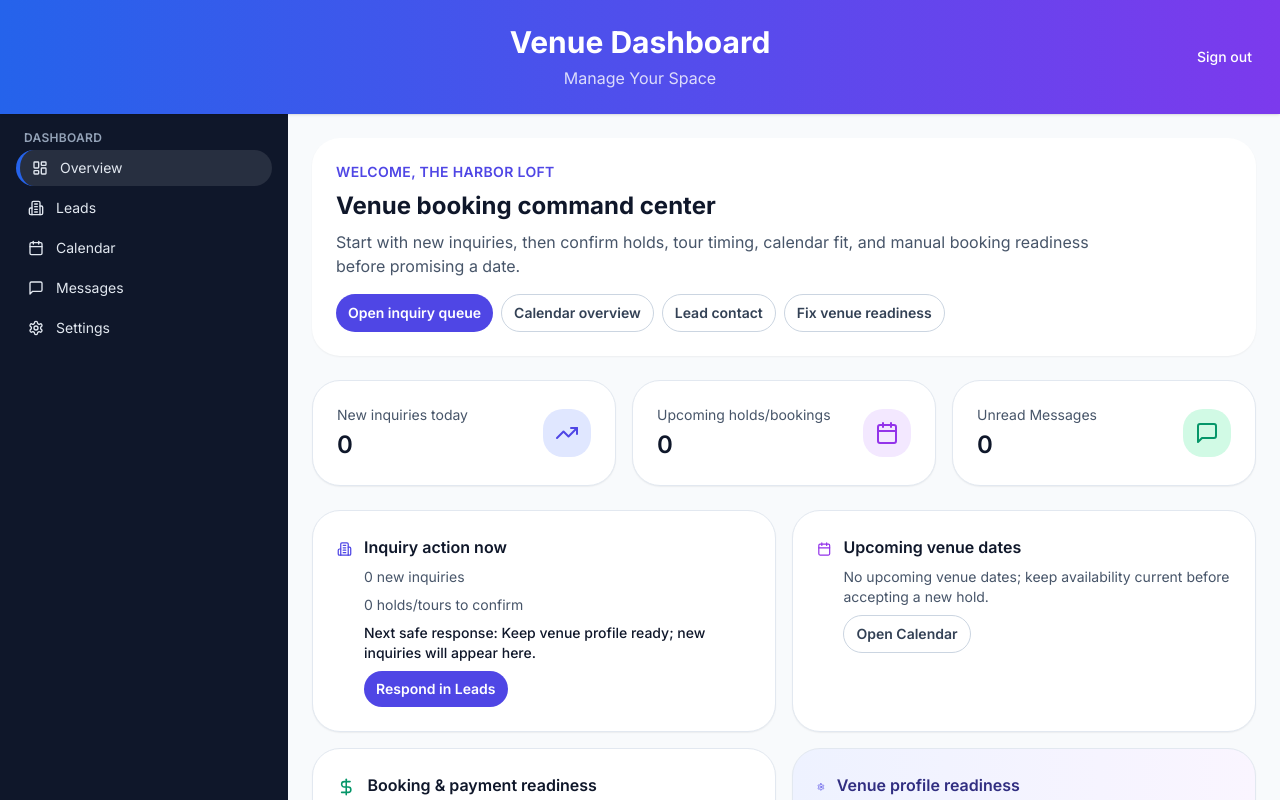
Test: VenueDashboard booking readiness workflow › routes first-screen actions into useful venue surfaces instead of coming-soon placeholders
Click the button "Respond in Leads". click: (436, 688)
box: x1=364 y1=670 x2=508 y2=706
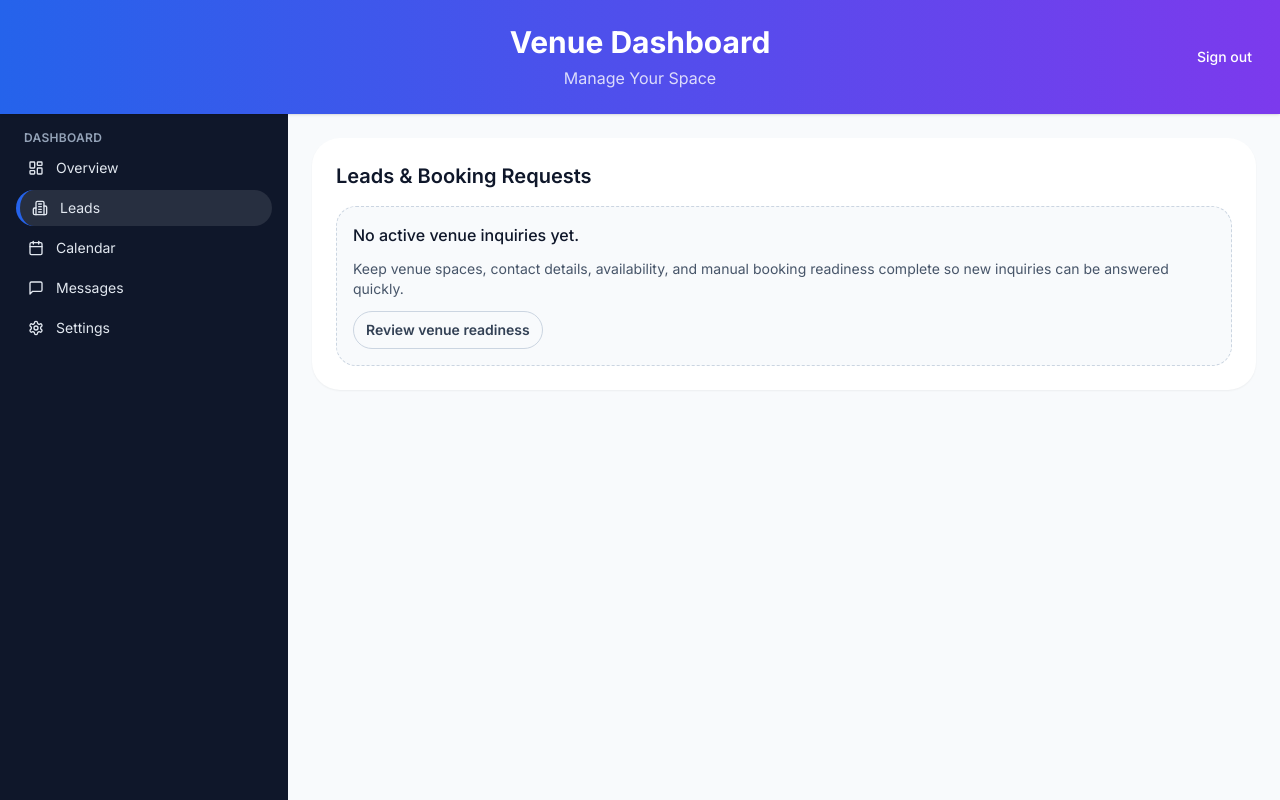
Now the heading "Leads & Booking Requests" is shown, box x1=336 y1=164 x2=592 y2=188
Now the text "No active venue inquiries yet." is shown, box x1=353 y1=224 x2=579 y2=244
Click the button "Calendar". click: (144, 248)
box: x1=16 y1=230 x2=272 y2=266
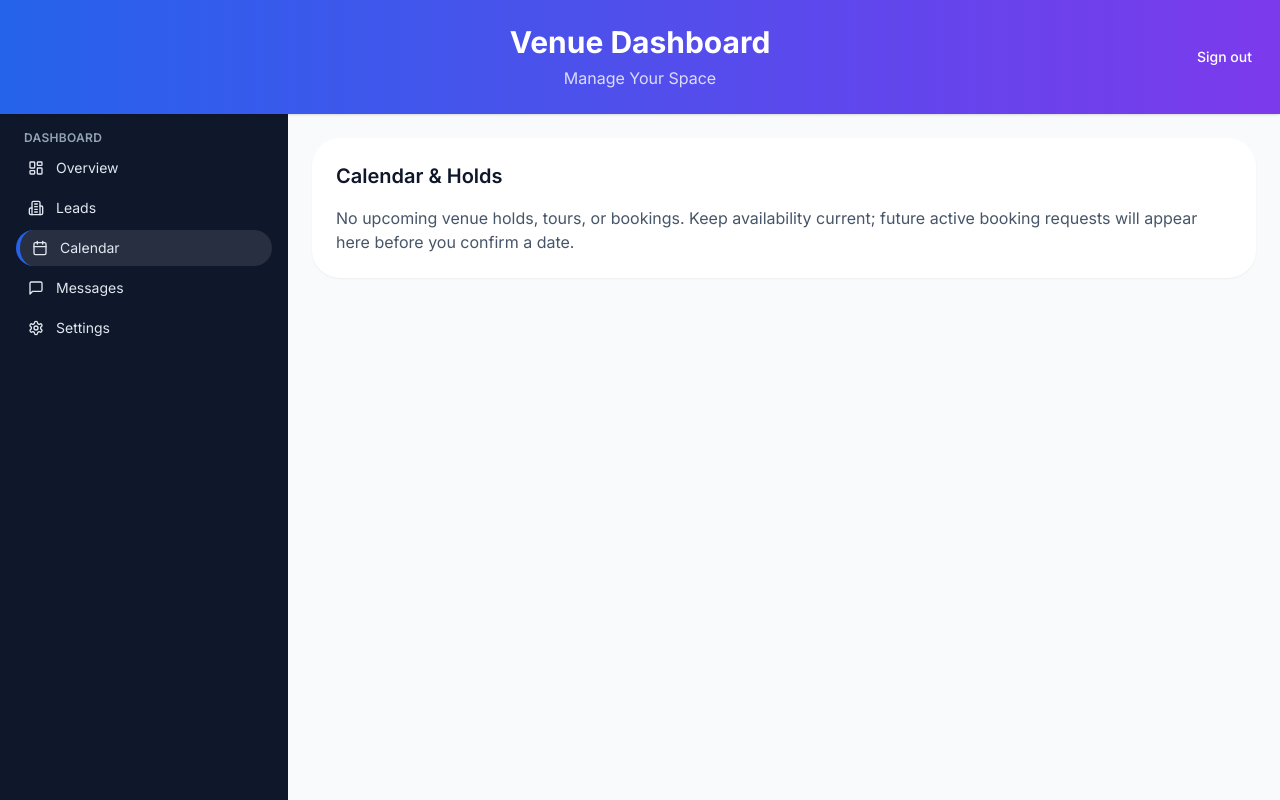
Now the heading "Calendar & Holds" is shown, box x1=336 y1=164 x2=502 y2=188
Now the text "No upcoming venue holds, tours, or bookings" is shown, box x1=336 y1=208 x2=1197 y2=252
Click the button "Messages". click: (144, 288)
box: x1=16 y1=270 x2=272 y2=306
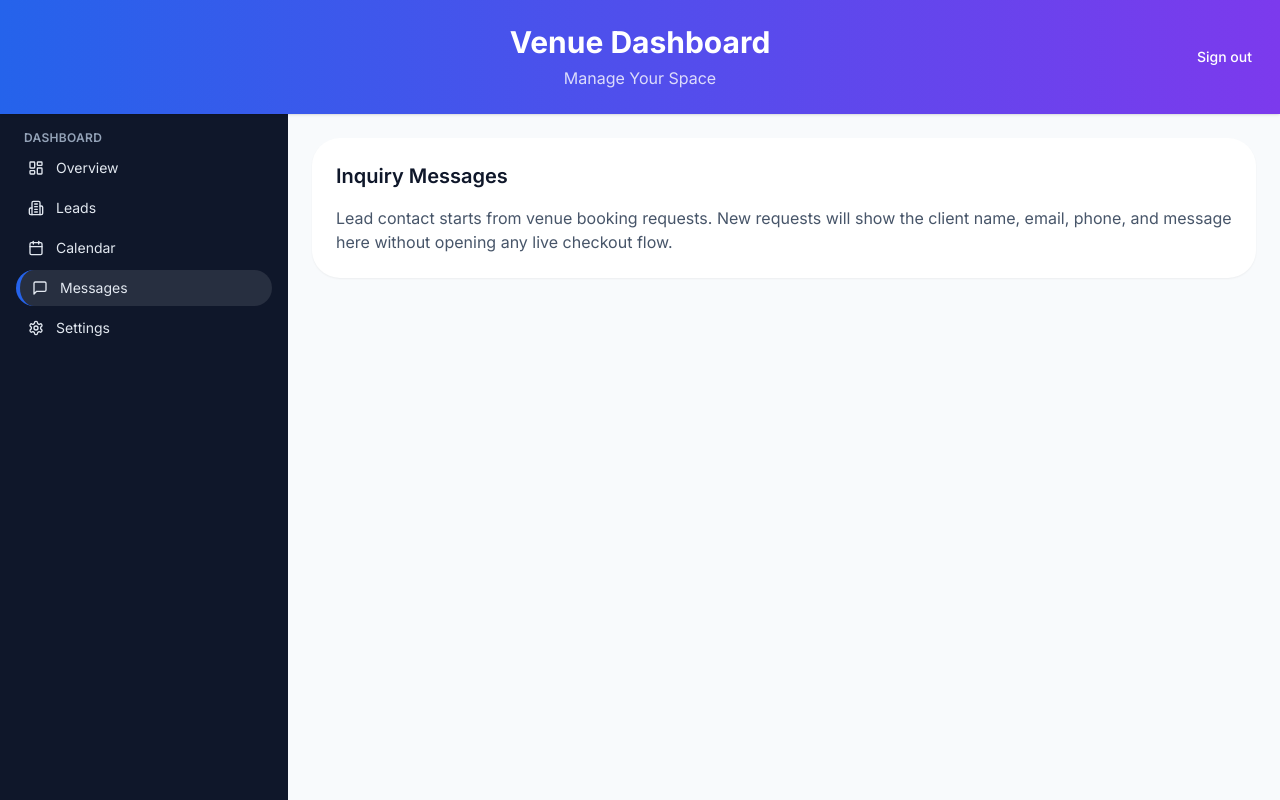
Now the heading "Inquiry Messages" is shown, box x1=336 y1=164 x2=508 y2=188
Now the text "Lead contact starts from venue booking requests" is shown, box x1=336 y1=208 x2=1232 y2=252
Click the button "Settings". click: (144, 328)
box: x1=16 y1=310 x2=272 y2=346
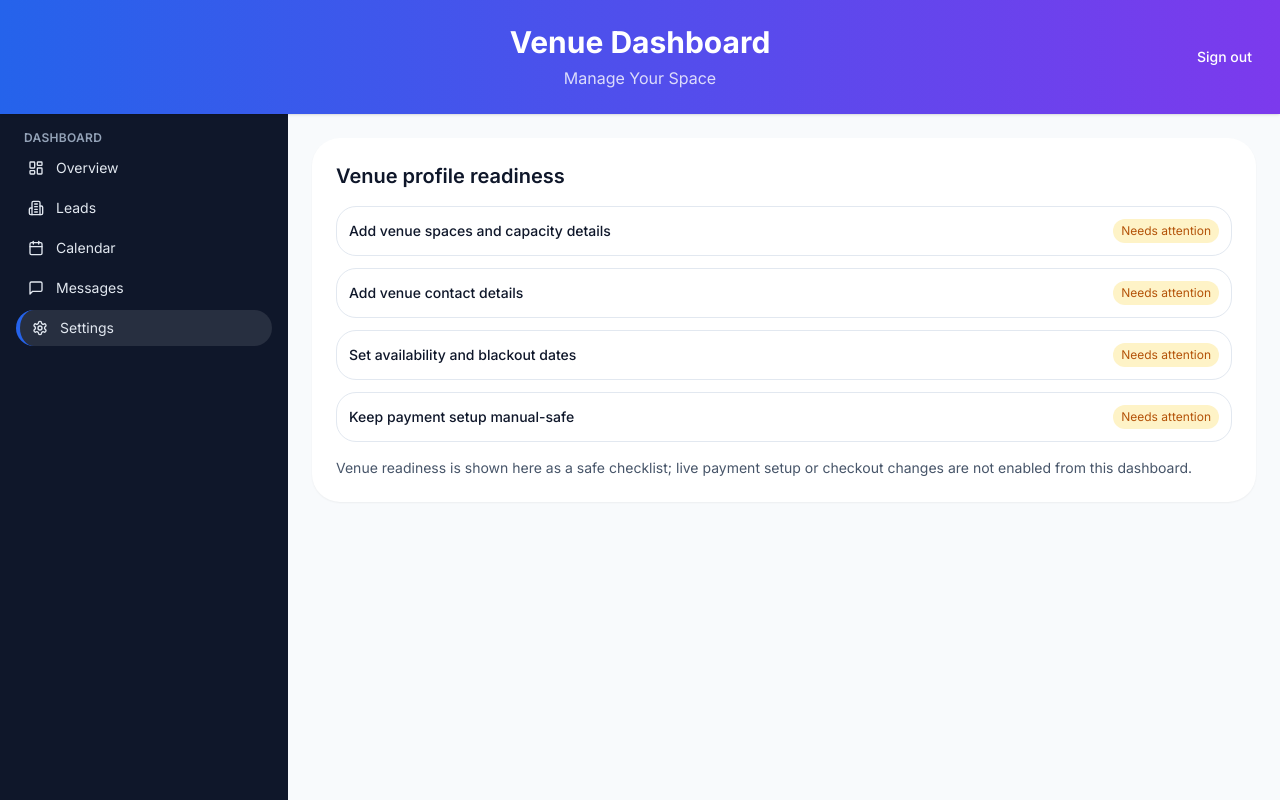
Now the heading "Venue profile readiness" is shown, box x1=336 y1=164 x2=565 y2=188
Now the text "Add venue spaces and capacity details" is shown, box x1=349 y1=220 x2=611 y2=240
